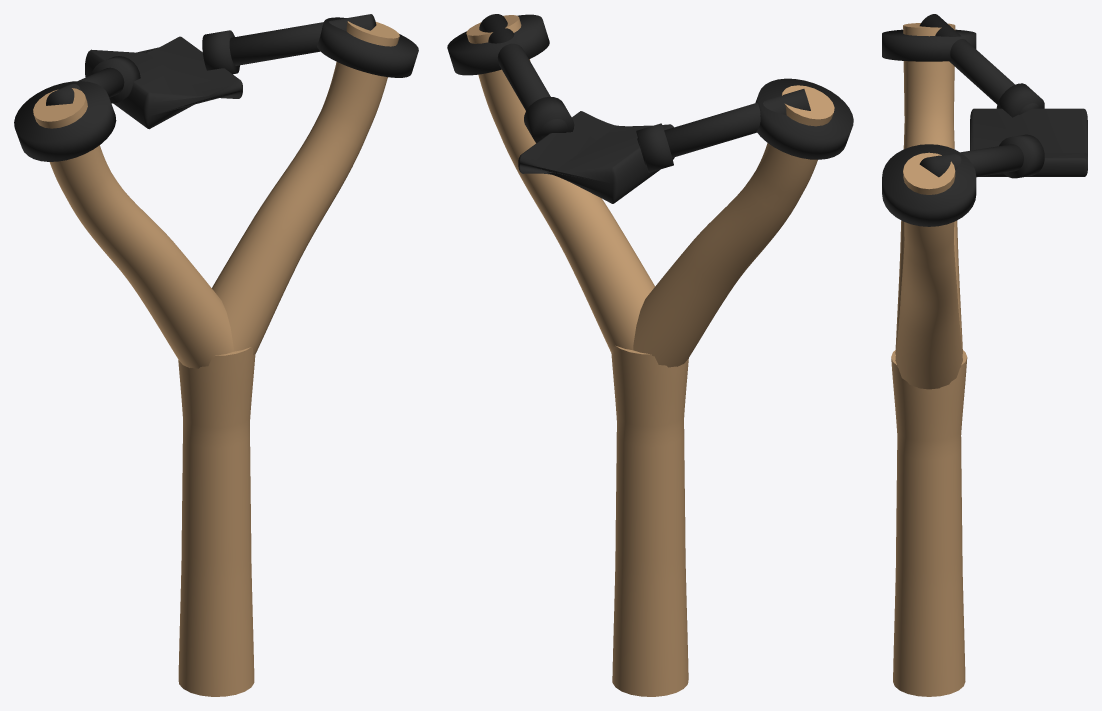
File: slingshot.glb
3 renders of one model, left to right at view 1: azimuth 30°, elevation 25°; view 2: azimuth 150°, elevation 25°; view 3: azimuth 270°, elevation 25°, orthographic. The views are drawn at different scales.
Parts seen in each view (by area): view 1: Trunk, ForkR, ForkL, Pouch, WrapTipL, WrapTipR, BandR, BandL, WrapPouchR, WrapPouchL; view 2: Trunk, ForkL, ForkR, Pouch, WrapTipL, BandL, BandR, WrapTipR, WrapPouchR, WrapPouchL; view 3: Trunk, ForkR, ForkL, Pouch, WrapTipR, BandL, WrapTipL, BandR, WrapPouchR, WrapPouchL.
Part boxes in pixels (<box>): Trunk: <box>178,347,255,696</box>; ForkR: <box>212,21,399,354</box>; ForkL: <box>33,88,233,368</box>; Pouch: <box>85,36,242,129</box>; WrapTipL: <box>14,81,116,161</box>; WrapTipR: <box>317,17,418,77</box>; BandR: <box>229,14,376,65</box>; BandL: <box>46,67,124,105</box>; WrapPouchR: <box>202,30,239,74</box>; WrapPouchL: <box>91,56,140,103</box>; Trunk: <box>611,345,688,696</box>; ForkL: <box>633,85,834,367</box>; ForkR: <box>466,15,654,353</box>; Pouch: <box>518,111,674,203</box>; WrapTipL: <box>755,78,853,159</box>; BandL: <box>637,89,810,165</box>; BandR: <box>479,14,567,138</box>; WrapTipR: <box>447,14,549,75</box>; WrapPouchR: <box>524,96,574,143</box>; WrapPouchL: <box>636,123,673,172</box>; Trunk: <box>891,350,967,696</box>; ForkR: <box>895,152,962,389</box>; ForkL: <box>895,23,962,354</box>; Pouch: <box>970,108,1087,176</box>; WrapTipR: <box>882,144,976,226</box>; BandL: <box>919,14,1039,114</box>; WrapTipL: <box>882,29,976,61</box>; BandR: <box>919,144,1023,177</box>; WrapPouchR: <box>999,134,1044,178</box>; WrapPouchL: <box>996,83,1044,117</box>.
Bounding box in the file's own units: 9.45 × 14.49 × 4.54.
